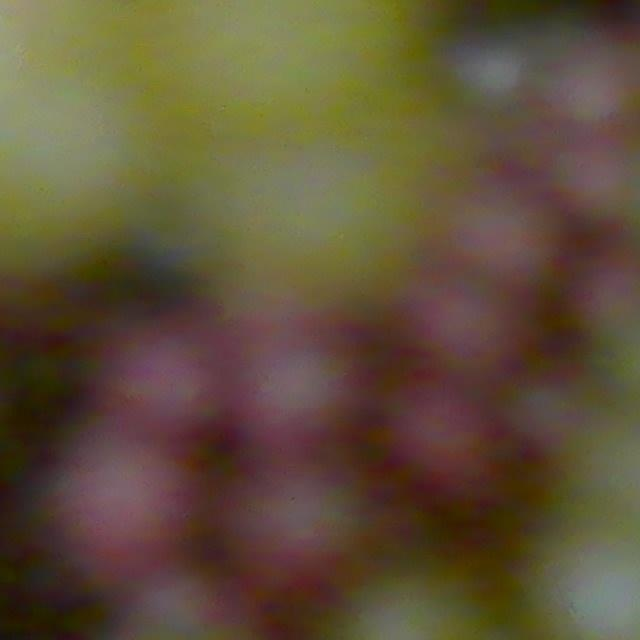SeaGrape: (121, 333, 212, 430), (266, 486, 361, 575), (91, 472, 177, 570), (384, 402, 477, 492), (424, 284, 524, 361), (245, 348, 338, 427), (470, 187, 552, 263)
